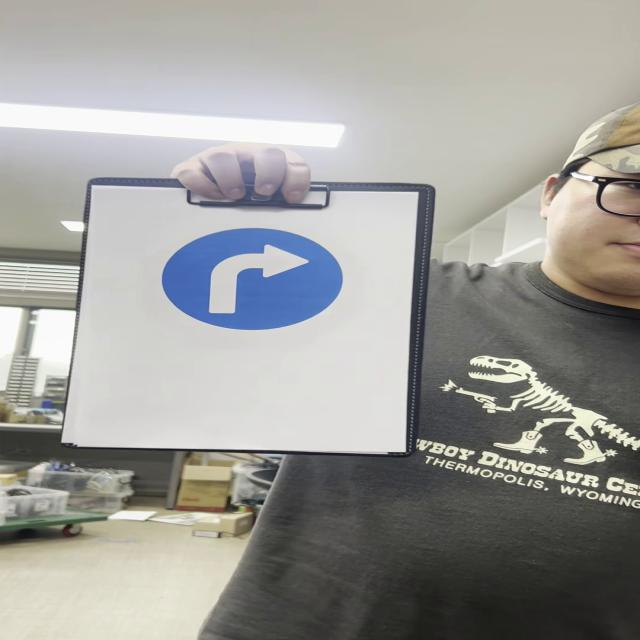right: (162, 227, 348, 334)
